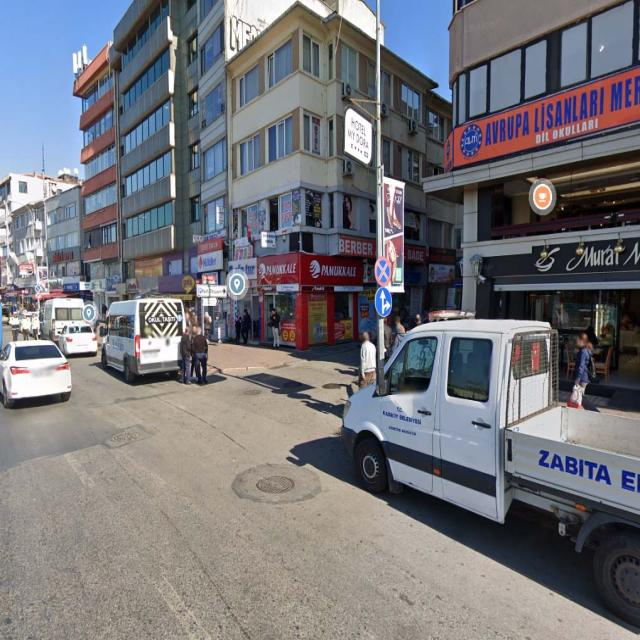ilerisag: (374, 287, 392, 317)
